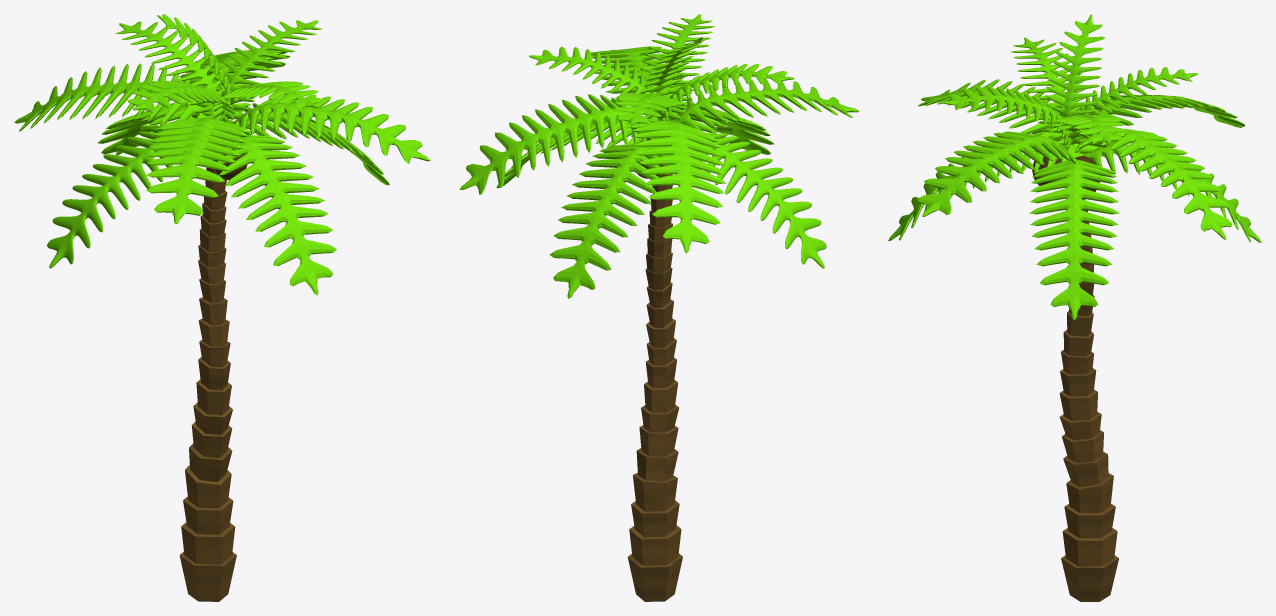
The model's file is пальма2.fbx.
3 renders of one model, left to right at view 1: azimuth 30°, elevation 25°; view 2: azimuth 150°, elevation 25°; view 3: azimuth 270°, elevation 25°, orthographic. The views are drawn at different scales.
Parts seen in each view (by area): view 1: Cube.035, Cube.038, Cube.041, Cube.037, Cube.040, Cube.042, Cube.047, Cube.046, Cube.045, Cube.044, Cube.036, Cube.039 (+2 smaller); view 2: Cube.035, Cube.039, Cube.042, Cube.043, Cube.037, Cube.041, Cube.046, Cube.044, Cube.045, Cube.040, Cube.047, Cube.048 (+2 smaller); view 3: Cube.035, Cube.036, Cube.040, Cube.043, Cube.048, Cube.044, Cube.042, Cube.041, Cube.045, Cube.047, Cube.039, Cube.046 (+1 smaller).
Boxes of the visible parts, x1=… form: Cube.035: x1=179, y1=167, x2=236, y2=601; Cube.038: x1=210, y1=135, x2=336, y2=295; Cube.041: x1=146, y1=117, x2=251, y2=223; Cube.037: x1=47, y1=128, x2=214, y2=268; Cube.040: x1=232, y1=94, x2=430, y2=163; Cube.042: x1=14, y1=63, x2=206, y2=131; Cube.047: x1=115, y1=21, x2=224, y2=118; Cube.046: x1=214, y1=20, x2=321, y2=119; Cube.045: x1=127, y1=80, x2=235, y2=123; Cube.044: x1=210, y1=81, x2=322, y2=120; Cube.036: x1=228, y1=103, x2=389, y2=185; Cube.039: x1=97, y1=103, x2=195, y2=155; Cube.035: x1=627, y1=164, x2=682, y2=601; Cube.039: x1=549, y1=144, x2=669, y2=298; Cube.042: x1=629, y1=120, x2=725, y2=253; Cube.043: x1=459, y1=94, x2=655, y2=194; Cube.037: x1=664, y1=132, x2=826, y2=268; Cube.041: x1=672, y1=78, x2=858, y2=130; Cube.046: x1=529, y1=46, x2=656, y2=118; Cube.044: x1=638, y1=14, x2=715, y2=120; Cube.045: x1=661, y1=64, x2=794, y2=120; Cube.040: x1=590, y1=46, x2=694, y2=138; Cube.047: x1=613, y1=93, x2=686, y2=125; Cube.048: x1=639, y1=37, x2=708, y2=121; Cube.035: x1=1059, y1=187, x2=1118, y2=601; Cube.036: x1=1029, y1=158, x2=1119, y2=320; Cube.040: x1=917, y1=131, x2=1078, y2=216; Cube.043: x1=1075, y1=129, x2=1232, y2=239; Cube.048: x1=1045, y1=14, x2=1104, y2=139; Cube.044: x1=942, y1=85, x2=1072, y2=148; Cube.042: x1=1085, y1=94, x2=1245, y2=144; Cube.041: x1=918, y1=79, x2=1080, y2=157; Cube.045: x1=1011, y1=37, x2=1091, y2=140; Cube.047: x1=1072, y1=67, x2=1198, y2=144; Cube.039: x1=1082, y1=141, x2=1261, y2=242; Cube.046: x1=1049, y1=115, x2=1126, y2=144.
Bounding box in the file's own units: 200 × 334 × 203.
